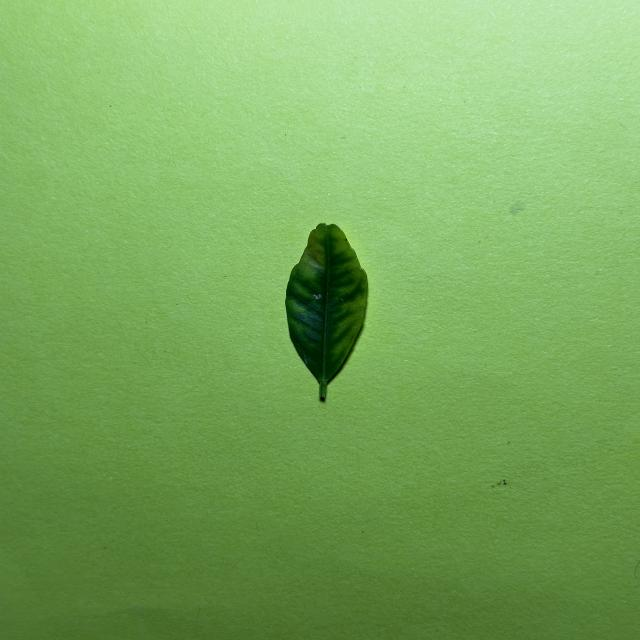greening: (286, 223, 367, 399)
